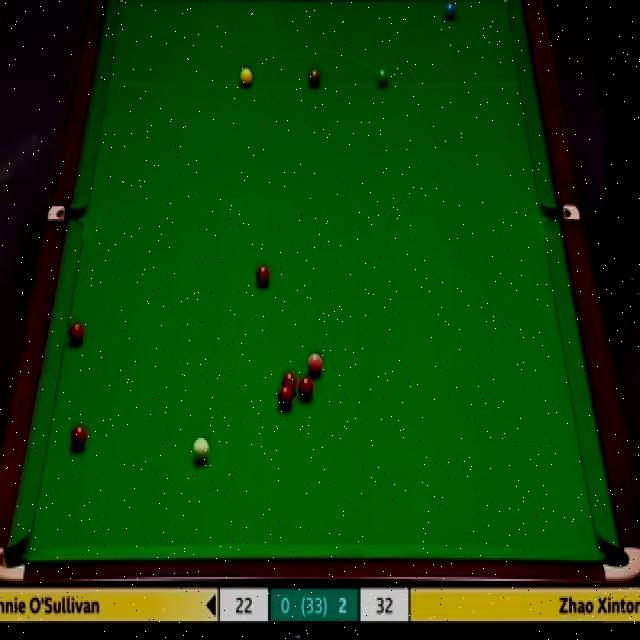blue-ball: (445, 1, 455, 23)
brown-ball: (308, 70, 322, 86)
green-ball: (375, 65, 390, 90)
pink-ball: (306, 351, 324, 376)
red-ball: (66, 321, 85, 347), (71, 422, 87, 451), (298, 376, 314, 401), (282, 370, 297, 396), (254, 264, 270, 286), (278, 386, 293, 408)
white-ball: (192, 439, 210, 462)
yellow-ball: (238, 66, 254, 88)
